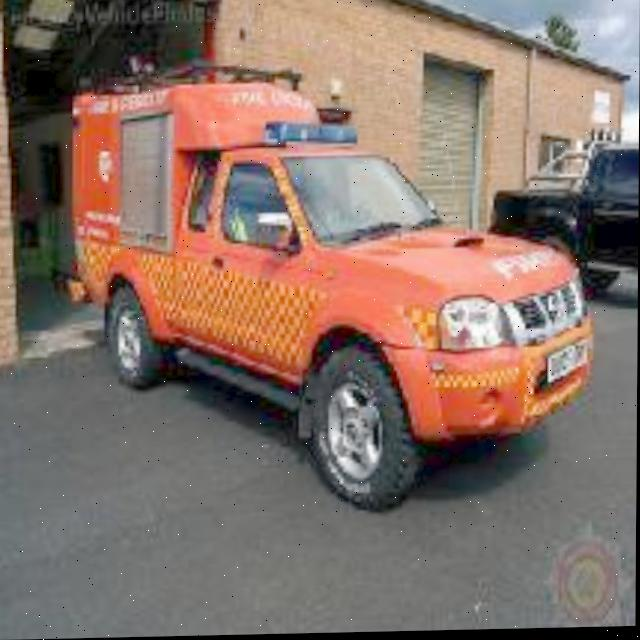emergency: (70, 67, 597, 487)
